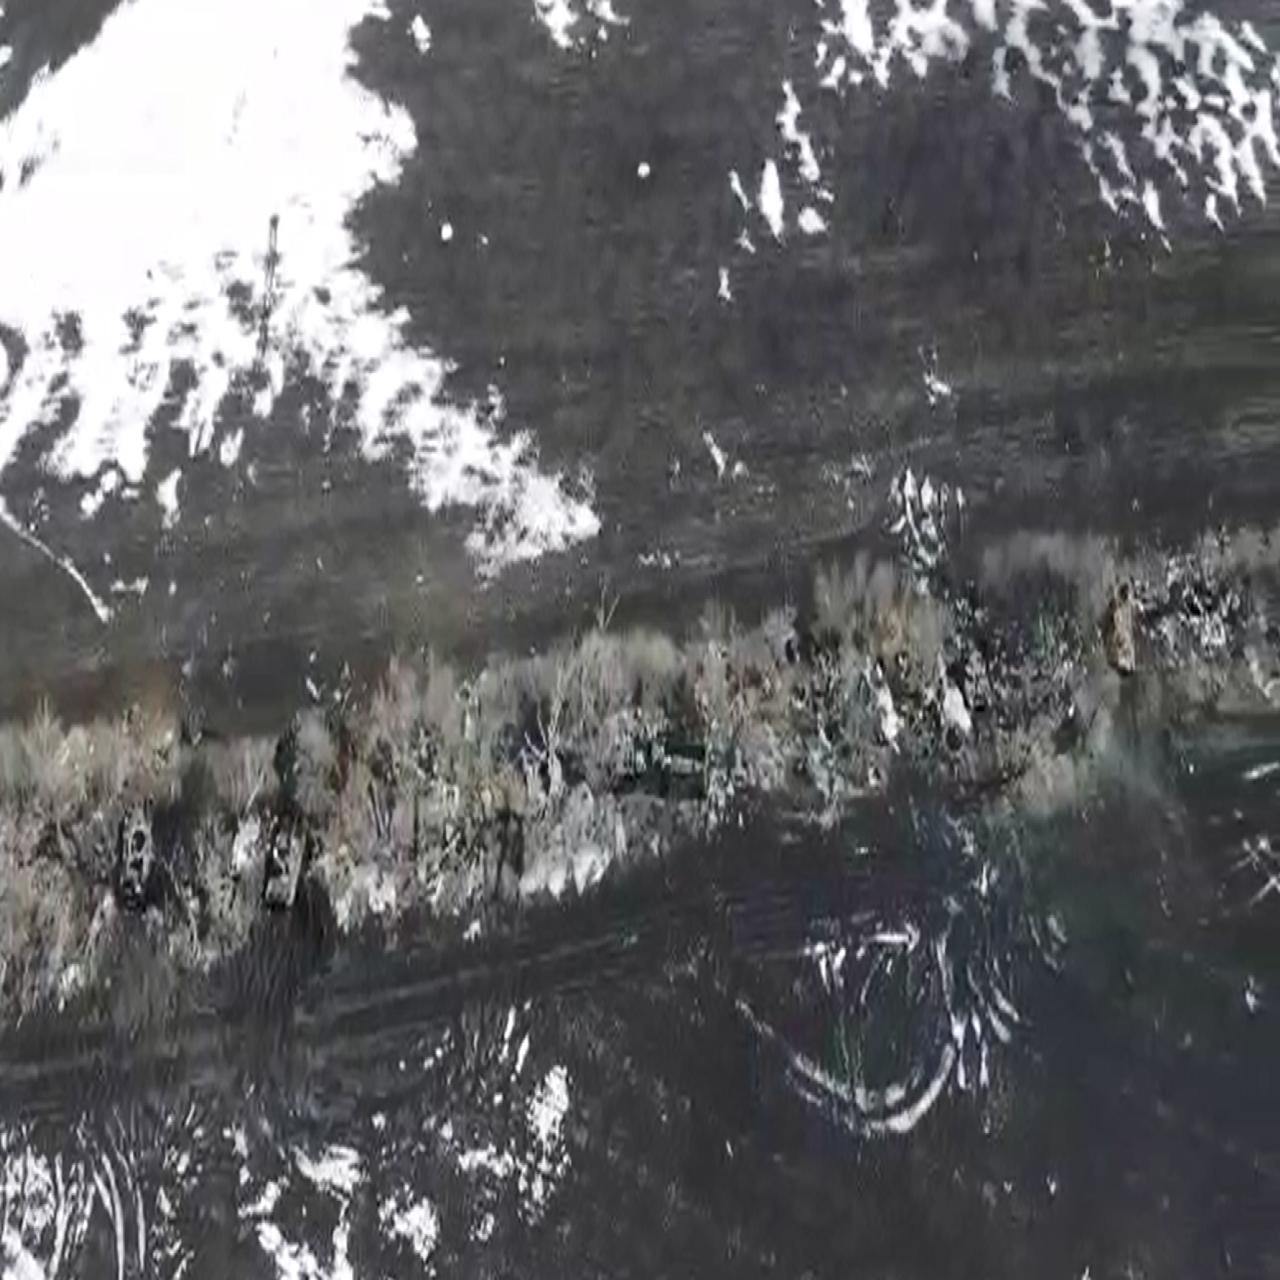MIL_Veh: (264, 817, 306, 912)
